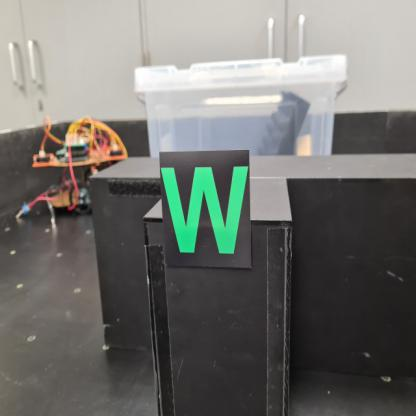w: (159, 150, 254, 272)
